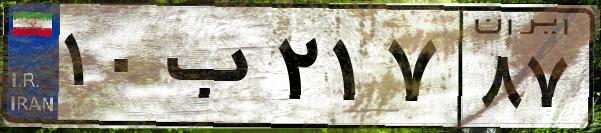0: (110, 28, 158, 98)
1: (330, 28, 385, 110), (57, 26, 110, 100)
2: (270, 28, 330, 110)
7: (385, 28, 445, 110), (525, 38, 570, 115)
8: (475, 38, 525, 113)
ب: (158, 20, 270, 120)
